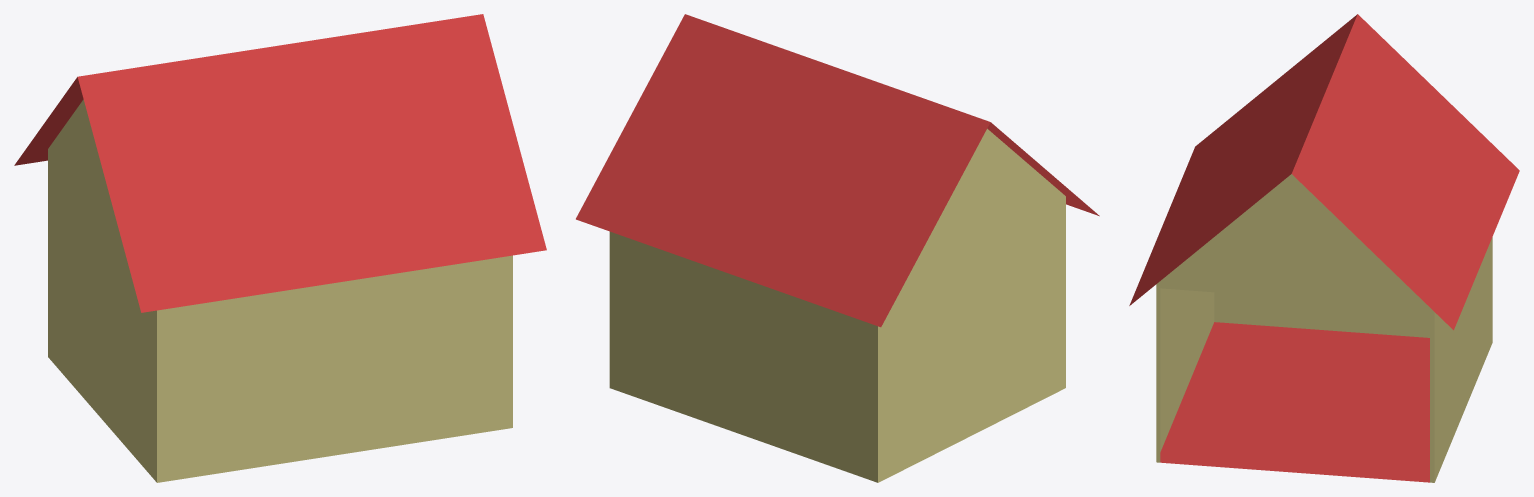
3 views of the same model, side by side, from view 1: azimuth 30°, elevation 25°; view 2: azimuth 150°, elevation 25°; view 3: azimuth 270°, elevation 25° (orthographic). The views are drawn at different scales.
Bounding box in the file's own units: 13.88 × 12.47 × 10.86.
